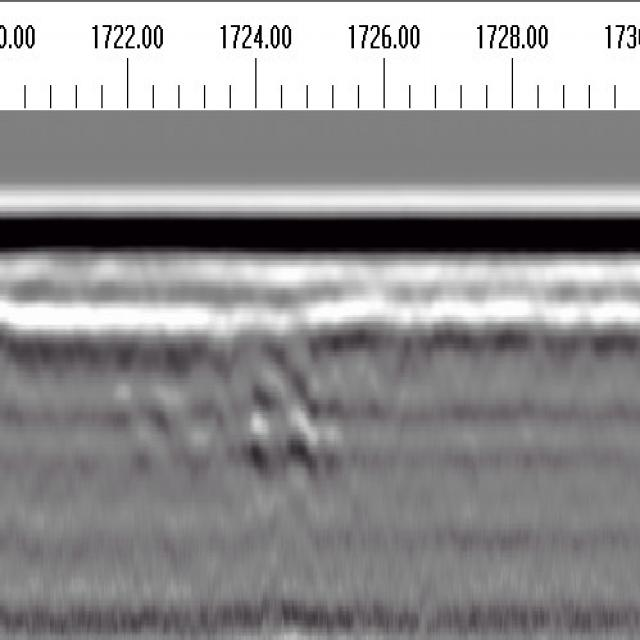loose: (140, 306, 346, 467)
